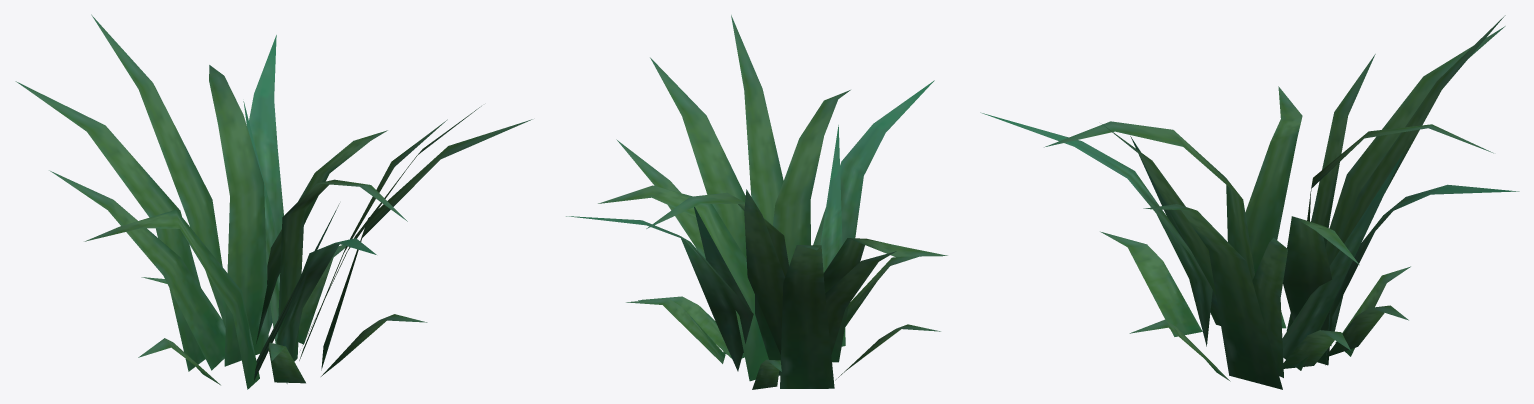
Rendered from sn_newshanlin_cao_001.FBX.
3 views of the same model, side by side, from view 1: azimuth 30°, elevation 25°; view 2: azimuth 150°, elevation 25°; view 3: azimuth 270°, elevation 25° (orthographic). The views are drawn at different scales.
Visible parts, largest first — view 1: sn_newshanlin_cao_001; view 2: sn_newshanlin_cao_001; view 3: sn_newshanlin_cao_001.
Part boxes in pixels (x1,y1,x2,y2): sn_newshanlin_cao_001: [15, 14, 532, 389]; sn_newshanlin_cao_001: [566, 15, 947, 389]; sn_newshanlin_cao_001: [980, 15, 1519, 389].
Bounding box in the file's own units: 3.56 × 4.01 × 2.54.
